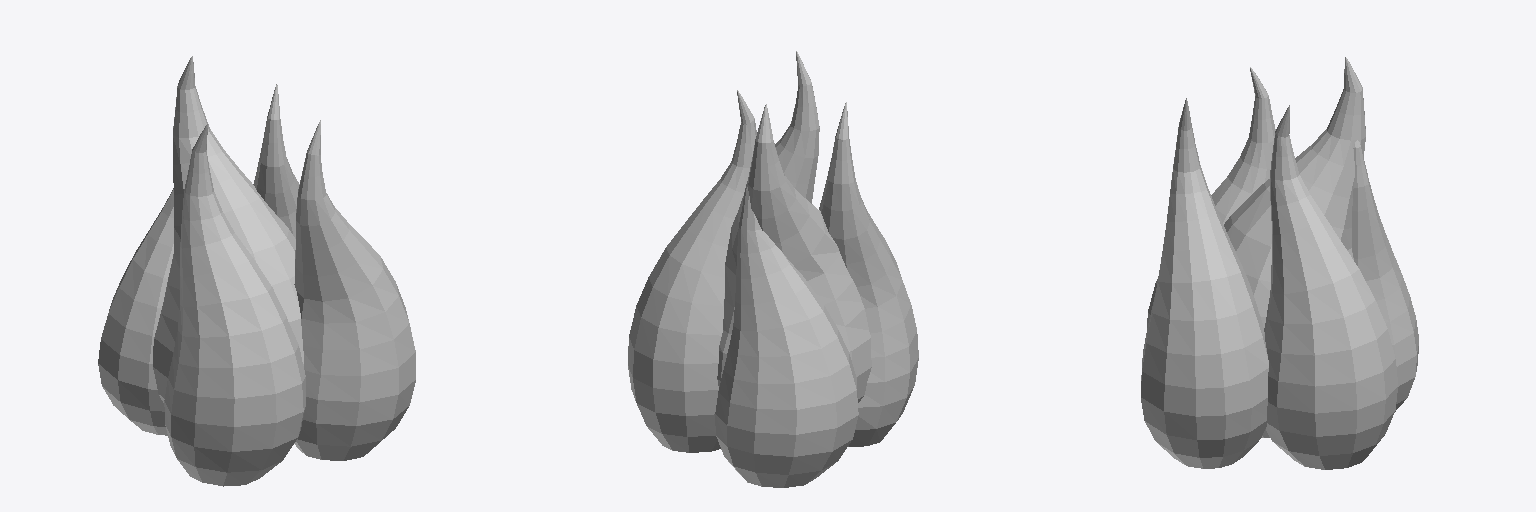
File: fire_000066.obj
The picture shows the model from 3 angles: view 1: azimuth 30°, elevation 25°; view 2: azimuth 150°, elevation 25°; view 3: azimuth 270°, elevation 25°; orthographic projection.
Visible parts, largest first — view 1: flame_NurbsPath.015; view 2: flame_NurbsPath.015; view 3: flame_NurbsPath.015.
Part boxes in pixels (x1,y1,x2,y2): flame_NurbsPath.015: (98,56,415,486); flame_NurbsPath.015: (628,51,918,487); flame_NurbsPath.015: (1141,57,1418,469).
Bounding box in the file's own units: 0.7577 × 1.17 × 0.7988.